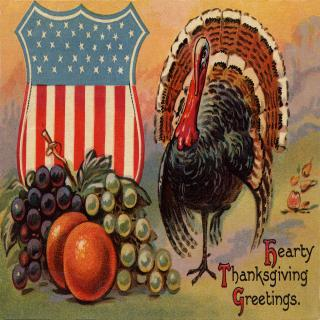Grape: (10, 167, 182, 290)
